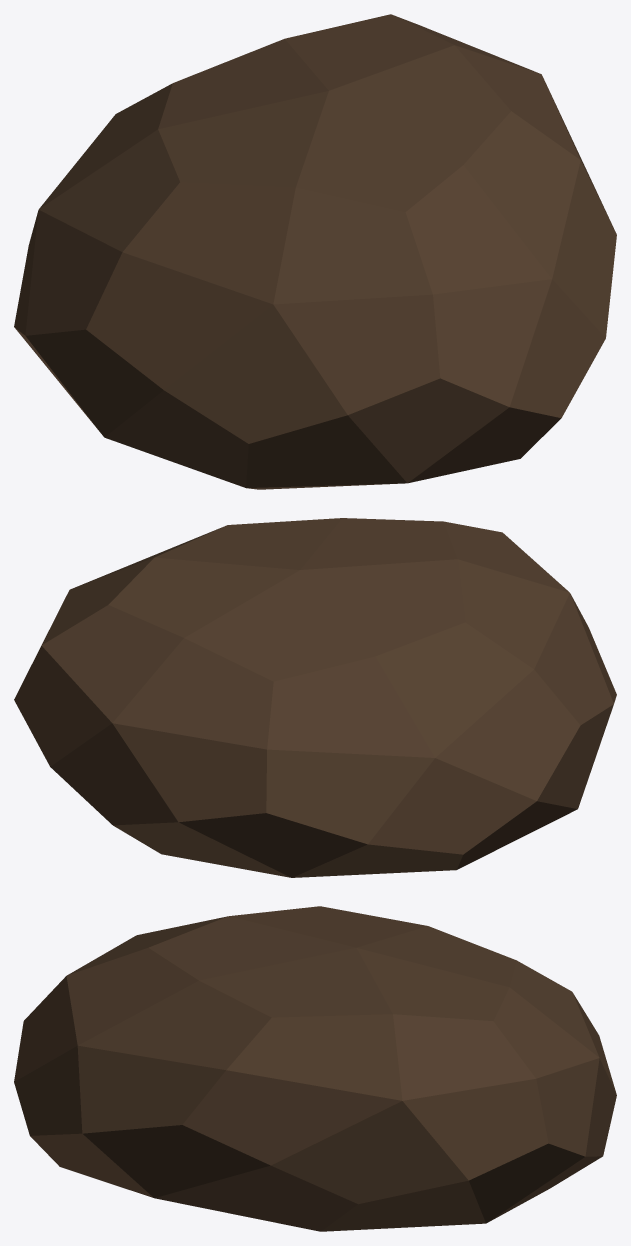
The model's file is Rock_2_Dark_Brown.fbx.
The picture shows the model from 3 angles, top to bottom: view 1: azimuth 30°, elevation 25°; view 2: azimuth 150°, elevation 25°; view 3: azimuth 270°, elevation 25°; orthographic projection. The views are drawn at different scales.
Parts seen in each view (by area): view 1: Rock_2_Dark_Brown; view 2: Rock_2_Dark_Brown; view 3: Rock_2_Dark_Brown.
Boxes of the visible parts, x1,y1,x2,y2 form: Rock_2_Dark_Brown: (14,14,616,489); Rock_2_Dark_Brown: (14,518,616,877); Rock_2_Dark_Brown: (14,906,616,1231).
Size of the model in its own units: 157 by 78.08 by 178.
